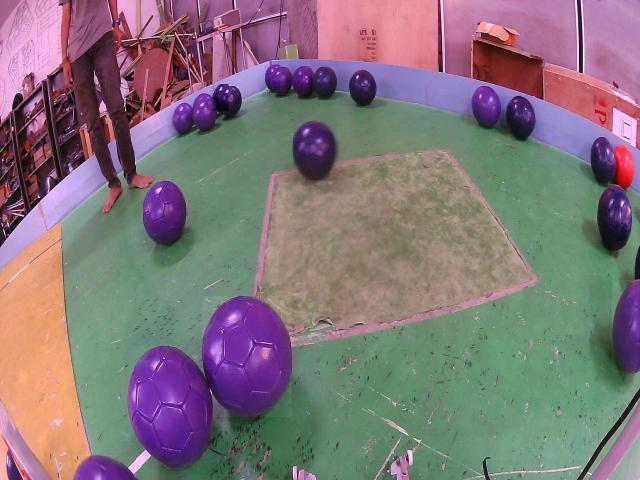jambhalya: (203, 296, 292, 417), (128, 346, 212, 466), (143, 180, 187, 245), (613, 280, 640, 373), (74, 455, 136, 480), (472, 85, 501, 128), (193, 98, 216, 130), (173, 102, 194, 133), (293, 66, 314, 97), (270, 66, 292, 95), (265, 65, 280, 91), (194, 93, 212, 106)
kaalyya: (293, 120, 337, 180), (598, 185, 632, 250), (506, 97, 535, 139), (590, 137, 616, 183), (349, 70, 376, 105), (312, 67, 338, 98), (222, 86, 241, 116), (213, 85, 229, 111)
